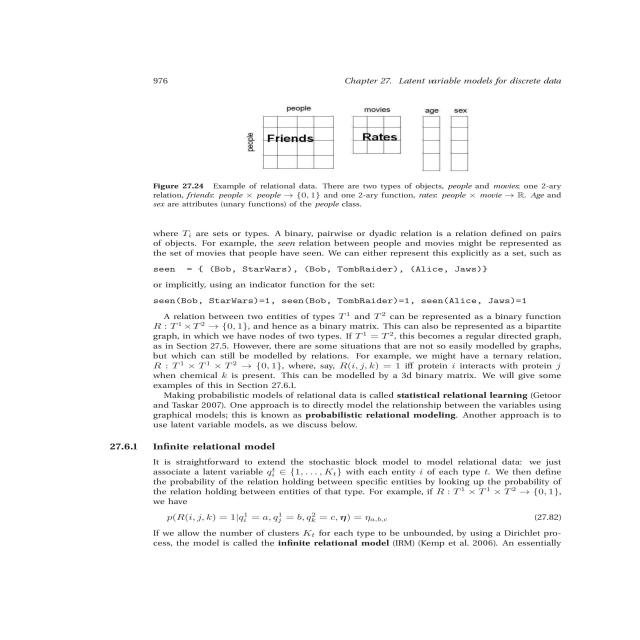diagram: (143, 66, 583, 220)
